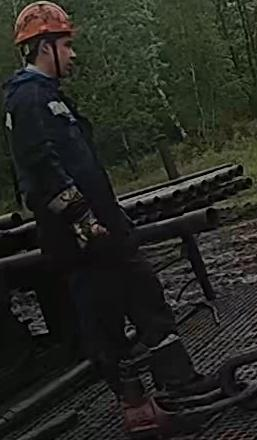gloves: (60, 194, 117, 263)
helmet: (12, 0, 76, 46)
vest: (1, 69, 134, 256)
